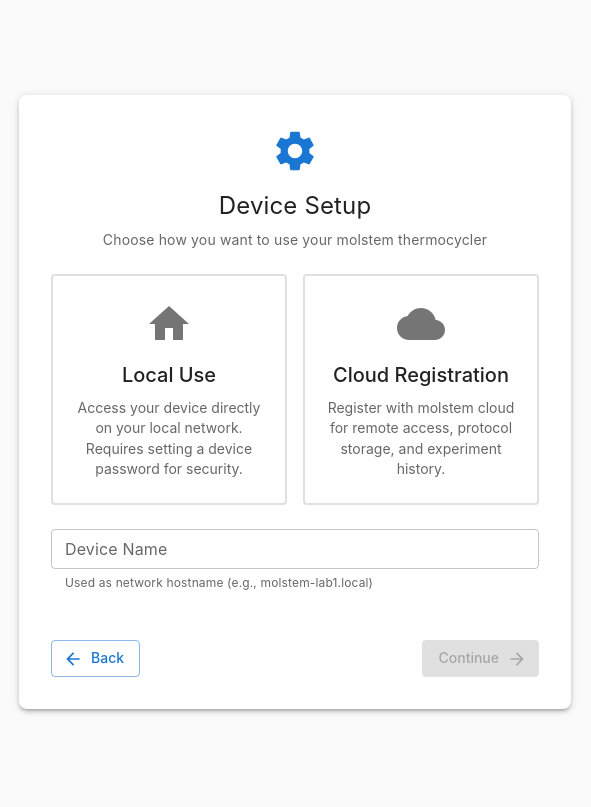
Test: SetupModePage › validates password match
Note: Select Local mode
Click the heading "Local Use".
click(169, 376)  # box x1=122 y1=364 x2=216 y2=388
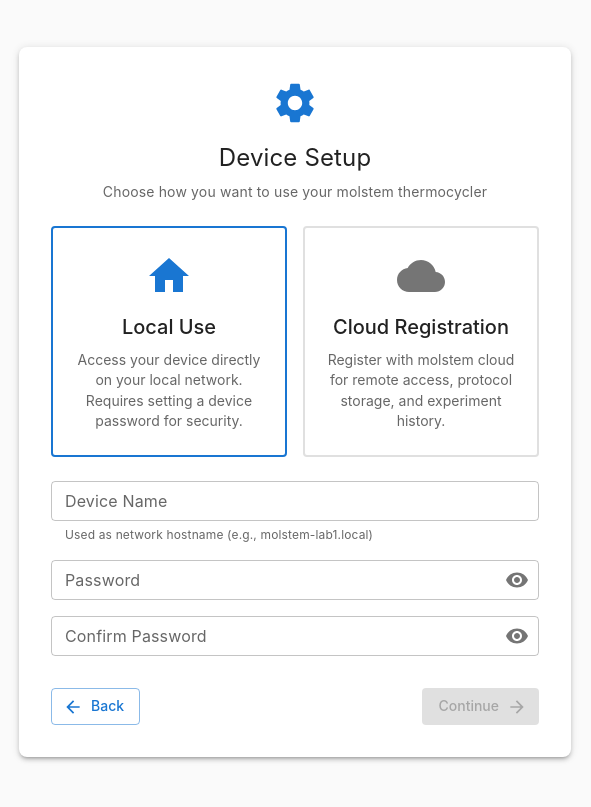
Note: Enter mismatched passwords
Type "password123" into the password field labelled "Password".
click(270, 580); type("password123")  # box x1=51 y1=560 x2=489 y2=600
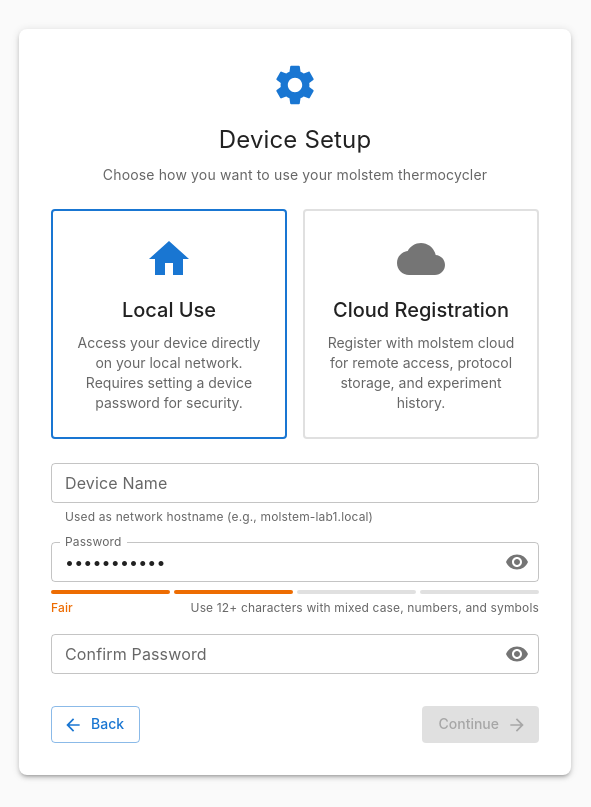
Type "different" into the password field labelled "Confirm Password".
click(270, 654); type("different")  # box x1=51 y1=634 x2=489 y2=674
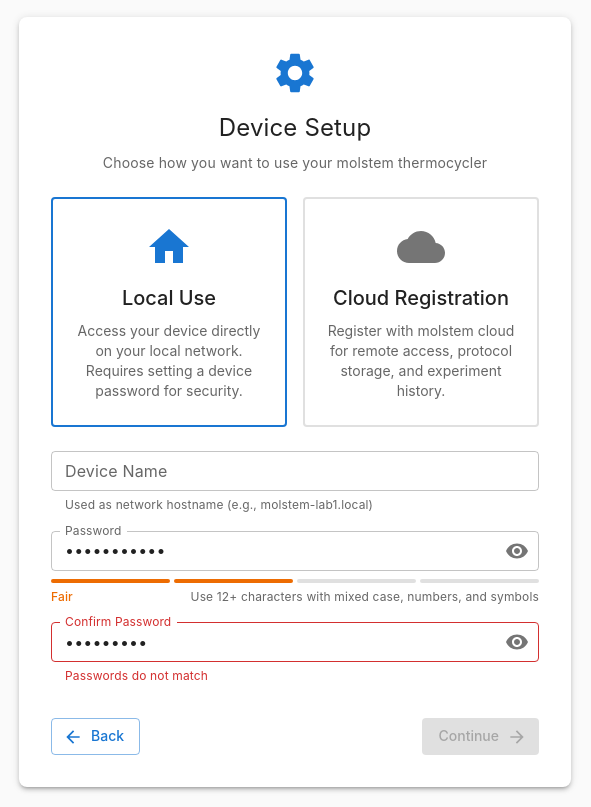
Result: the text "Passwords do not match" is shown at x1=65 y1=668 x2=208 y2=683
